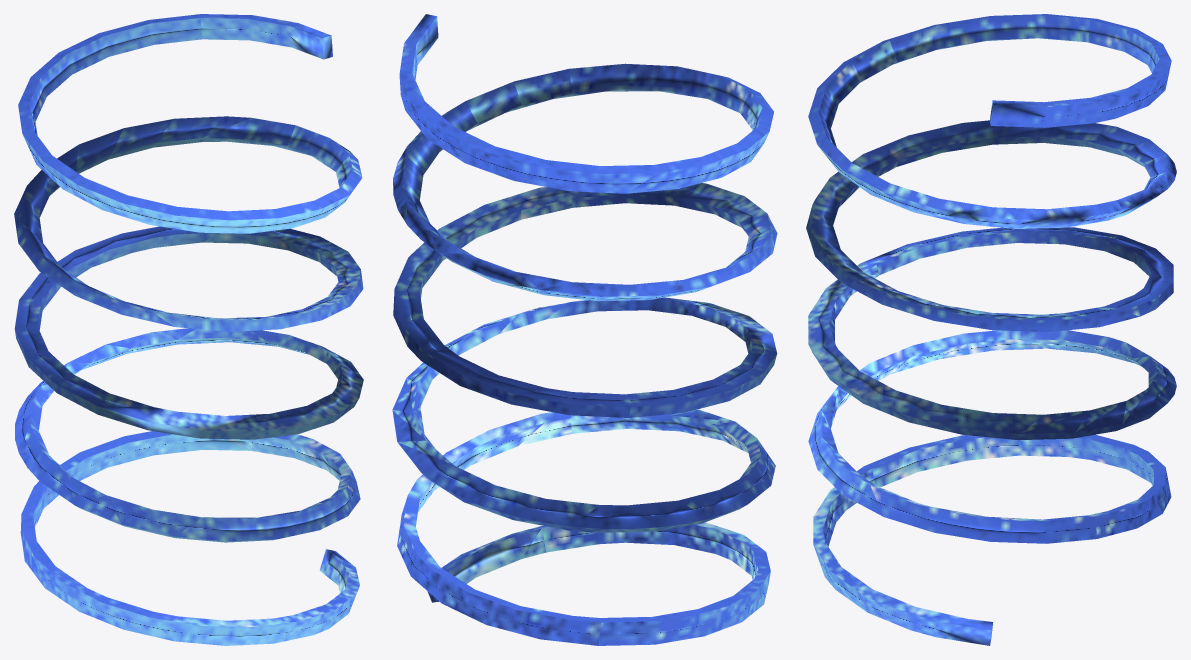
File: gravity_coil_roblox.glb
The picture shows the model from 3 angles, left to right: view 1: azimuth 30°, elevation 25°; view 2: azimuth 150°, elevation 25°; view 3: azimuth 270°, elevation 25°; orthographic projection. The views are drawn at different scales.
Visible parts, largest first — view 1: Object_4; view 2: Object_4; view 3: Object_4.
Boxes of the visible parts, left/top/right/bottom form: Object_4: left=14, top=14, right=363, bottom=645; Object_4: left=392, top=14, right=777, bottom=645; Object_4: left=806, top=14, right=1176, bottom=645.
Size of the model in its own units: 948 by 1621 by 1004.
1 material, 1 textured.
